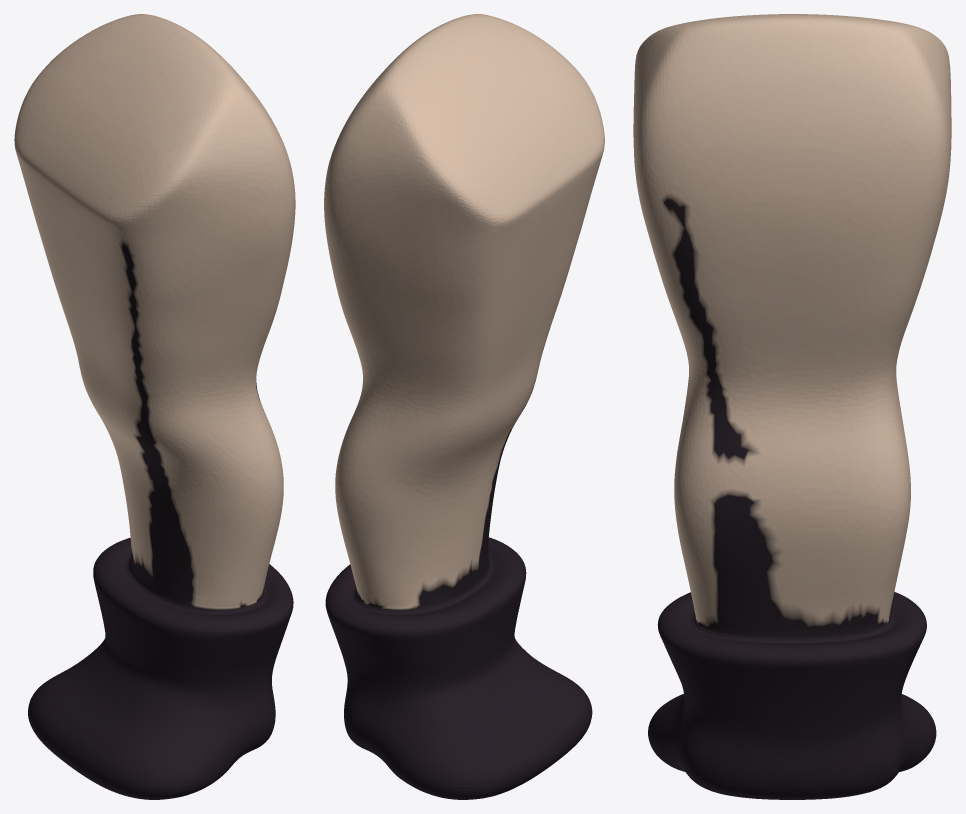
File: leg_R.glb
3 renders of one model, left to right at view 1: azimuth 30°, elevation 25°; view 2: azimuth 150°, elevation 25°; view 3: azimuth 270°, elevation 25°, orthographic. The views are drawn at different scales.
Parts seen in each view (by area): view 1: geometry_0; view 2: geometry_0; view 3: geometry_0.
Part boxes in pixels (x1,y1,x2,y2): geometry_0: (14, 14, 295, 799); geometry_0: (324, 14, 604, 799); geometry_0: (633, 14, 951, 799).
Bounding box in the file's own units: 0.1862 × 0.6046 × 0.2249.
